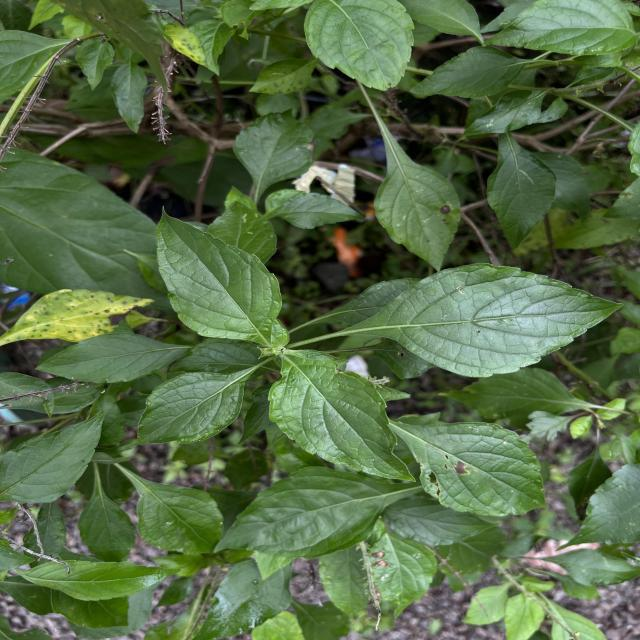Ocimum gratissimum: (326, 259, 628, 382), (266, 352, 419, 490), (212, 464, 424, 561), (153, 196, 285, 350), (383, 416, 551, 520), (372, 105, 464, 272), (301, 0, 418, 92), (2, 408, 108, 506), (119, 466, 229, 560), (130, 365, 254, 447), (481, 128, 561, 252), (478, 0, 640, 59), (30, 328, 189, 386), (8, 556, 184, 604)
